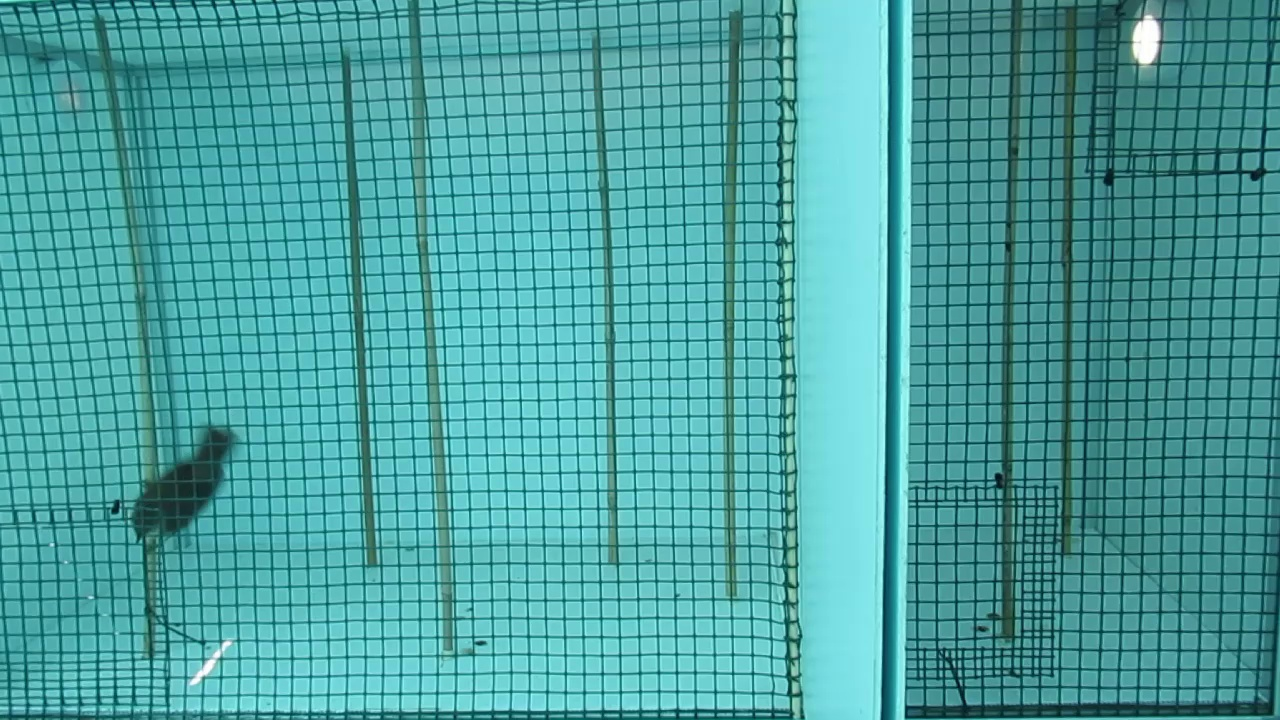bird: (128, 426, 243, 547)
stick: (89, 13, 166, 659), (403, 0, 456, 650), (338, 53, 380, 568), (997, 0, 1027, 641), (587, 32, 622, 562), (719, 5, 742, 597), (1056, 0, 1080, 557)
